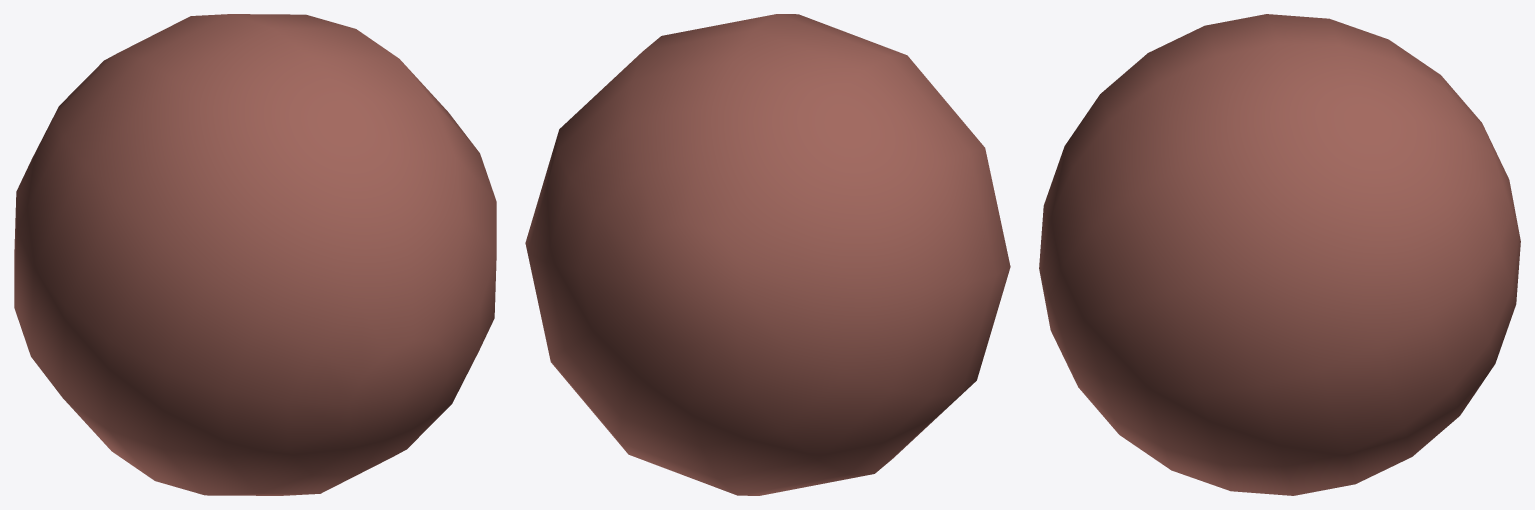
Rendered from mixamo_humanoid_joint_leftHandRing1.fbx.
The picture shows the model from 3 angles, left to right: view 1: azimuth 30°, elevation 25°; view 2: azimuth 150°, elevation 25°; view 3: azimuth 270°, elevation 25°; orthographic projection. The views are drawn at different scales.
Visible parts, largest first — view 1: joint_LeftHandRing1; view 2: joint_LeftHandRing1; view 3: joint_LeftHandRing1.
Boxes of the visible parts, x1,y1,x2,y2 form: joint_LeftHandRing1: (14, 14, 496, 495); joint_LeftHandRing1: (525, 14, 1010, 495); joint_LeftHandRing1: (1039, 14, 1520, 495).
Size of the model in its own units: 2.51 by 2.54 by 2.54.
